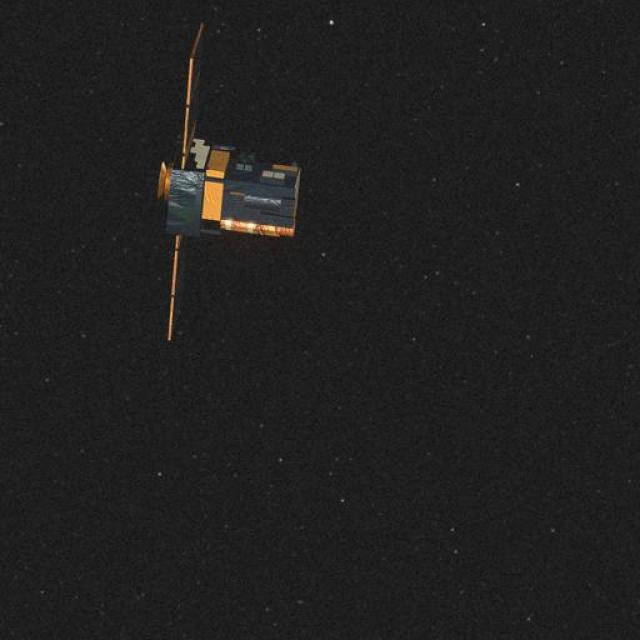soho: (134, 12, 294, 344)
